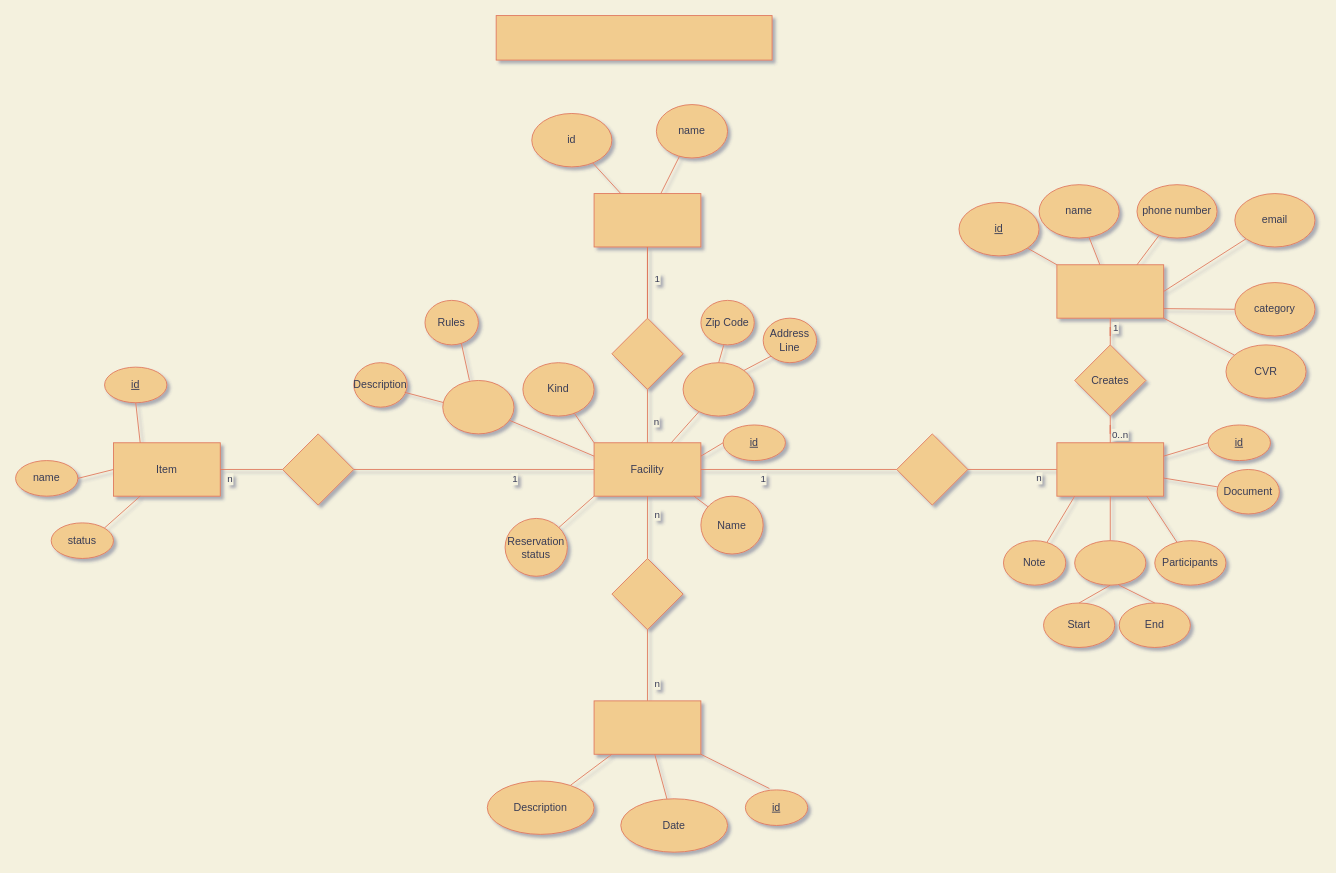
Some shapes in this 1336 by 873 pixel diagram are drawn without their labels. Each missing label, with the centre of its shape:
"Address" goes at pixel 718 389.
"Booking" goes at pixel 1110 469.
"Citizen" goes at pixel 1110 291.
"Contains" goes at pixel 318 469.
"has" goes at pixel 647 353.
"Infomation" goes at pixel 478 407.
"Maintenance Interventions" goes at pixel 647 727.
"Manages" goes at pixel 647 594.
"Municipality" goes at pixel 647 220.
"Recreational Facility management System" goes at pixel 633 37.
"Time slot" goes at pixel 1110 562.
"Uses" goes at pixel 932 469.
